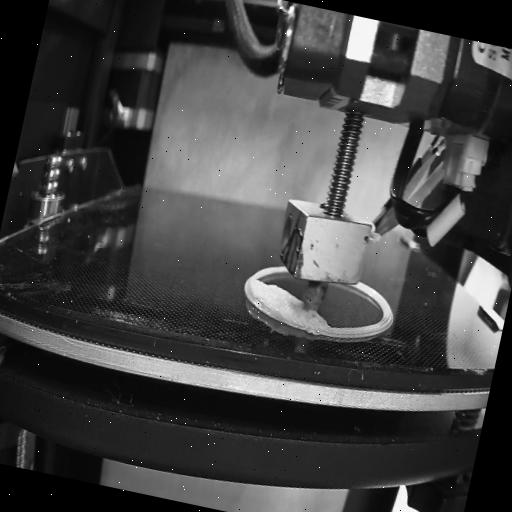over_extrusion: (298, 320, 324, 340), (244, 275, 261, 302)
